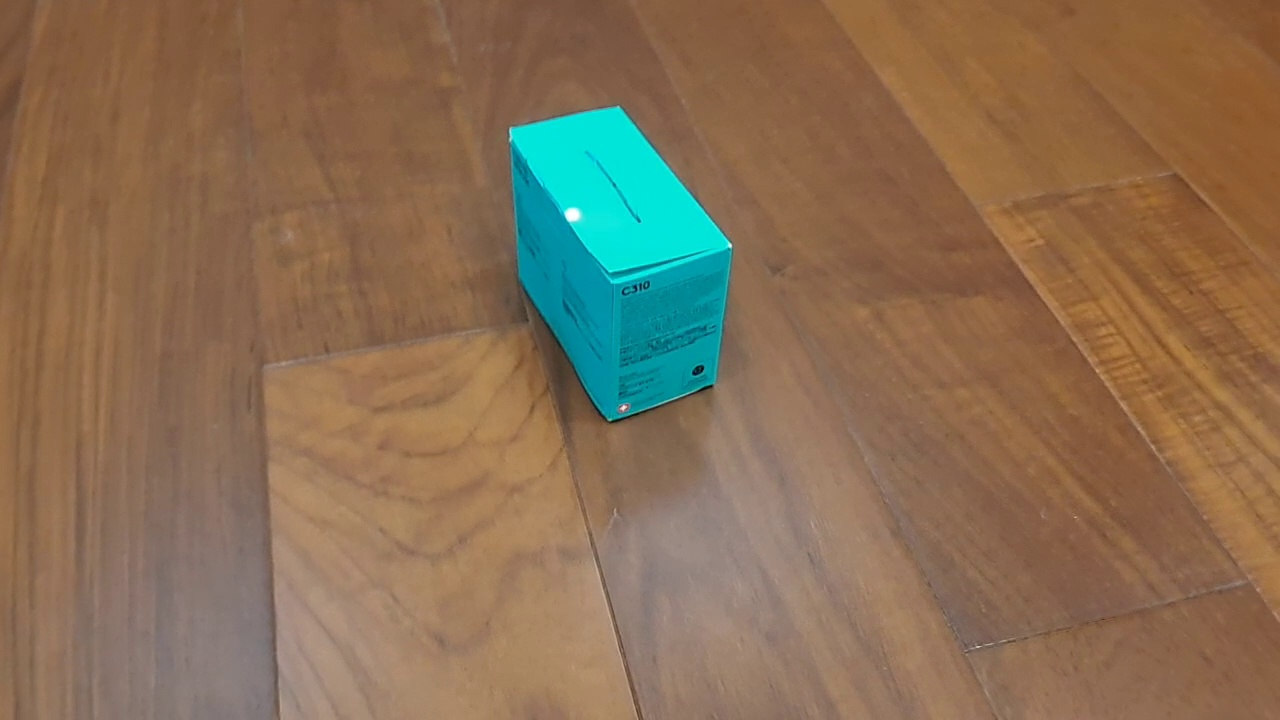webcam: (507, 104, 735, 426)
